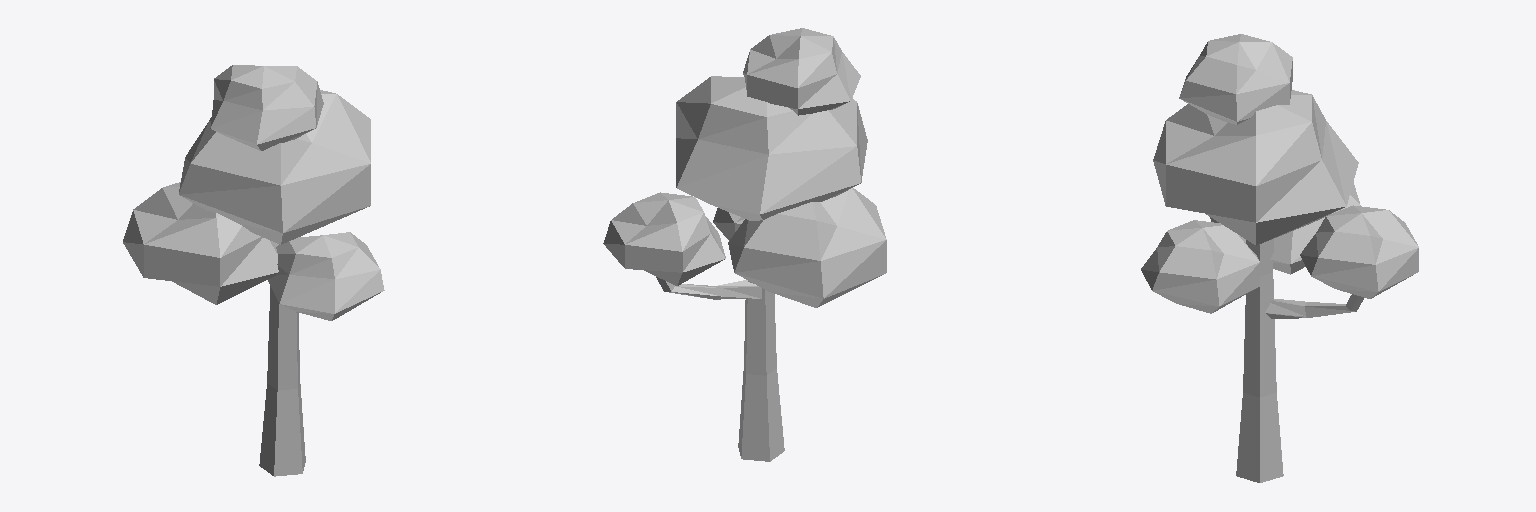
File: Tree_01.obj
The picture shows the model from 3 angles: view 1: azimuth 30°, elevation 25°; view 2: azimuth 150°, elevation 25°; view 3: azimuth 270°, elevation 25°; orthographic projection.
Visible parts, largest first — view 1: Tree01.002; view 2: Tree01.002; view 3: Tree01.002.
Boxes of the visible parts, box(x1,y1,x2,y2) form: Tree01.002: box(123, 65, 384, 476); Tree01.002: box(603, 28, 886, 461); Tree01.002: box(1141, 34, 1418, 482).
Bounding box in the file's own units: 4.56 × 7.86 × 4.77.